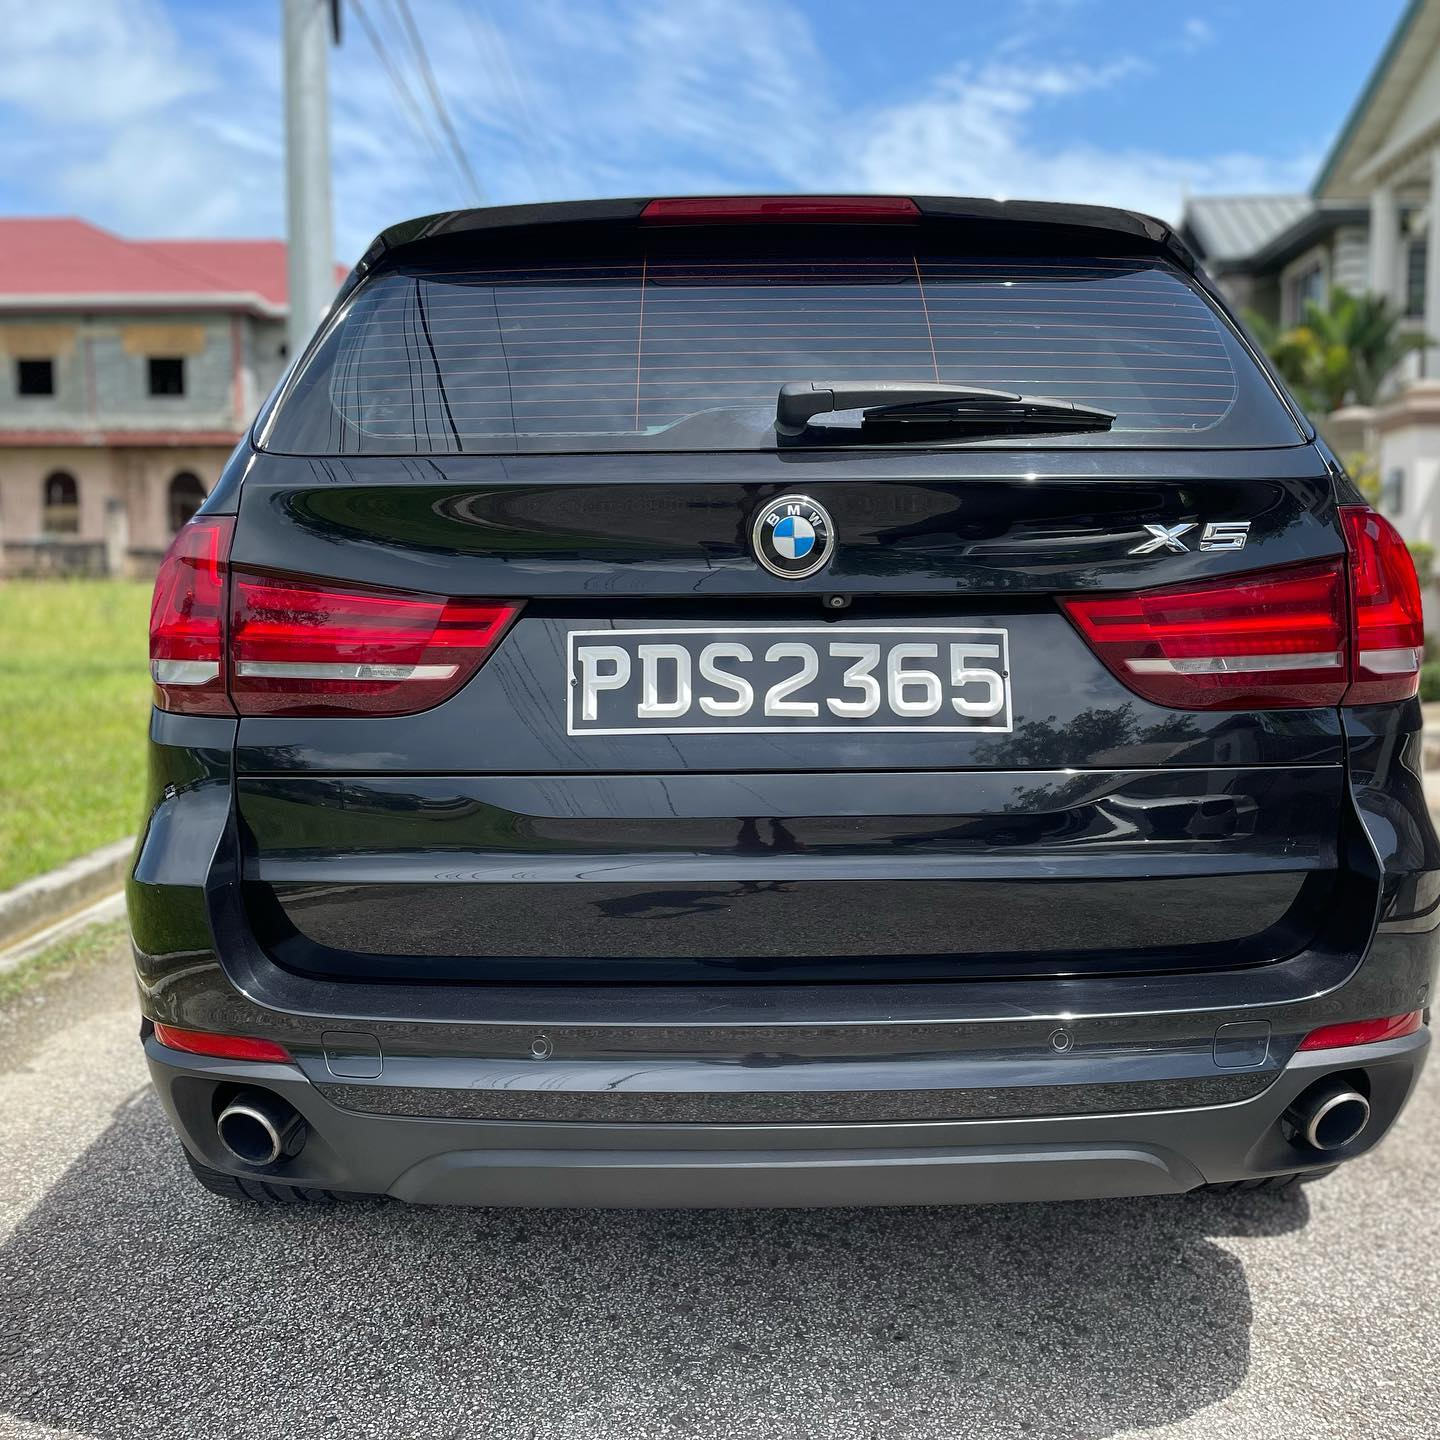License-Plate: (570, 634, 1007, 729)
